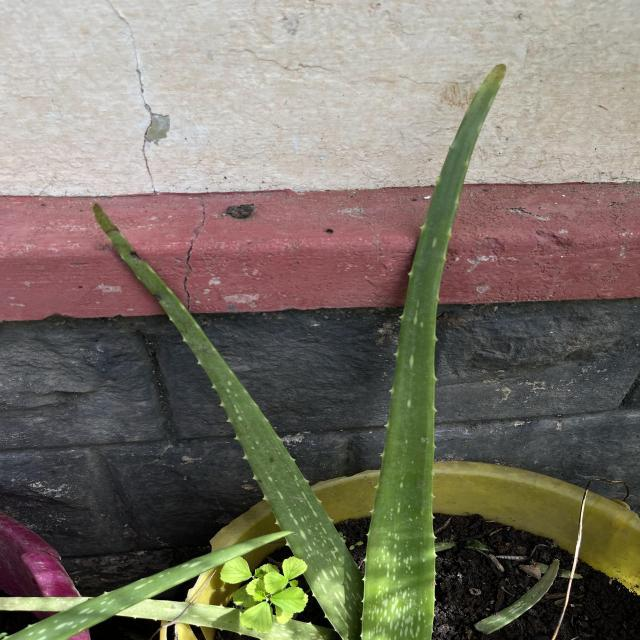Aloe vera: (354, 59, 512, 640)
